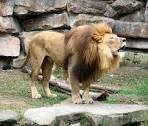lion: (19, 24, 127, 104)
